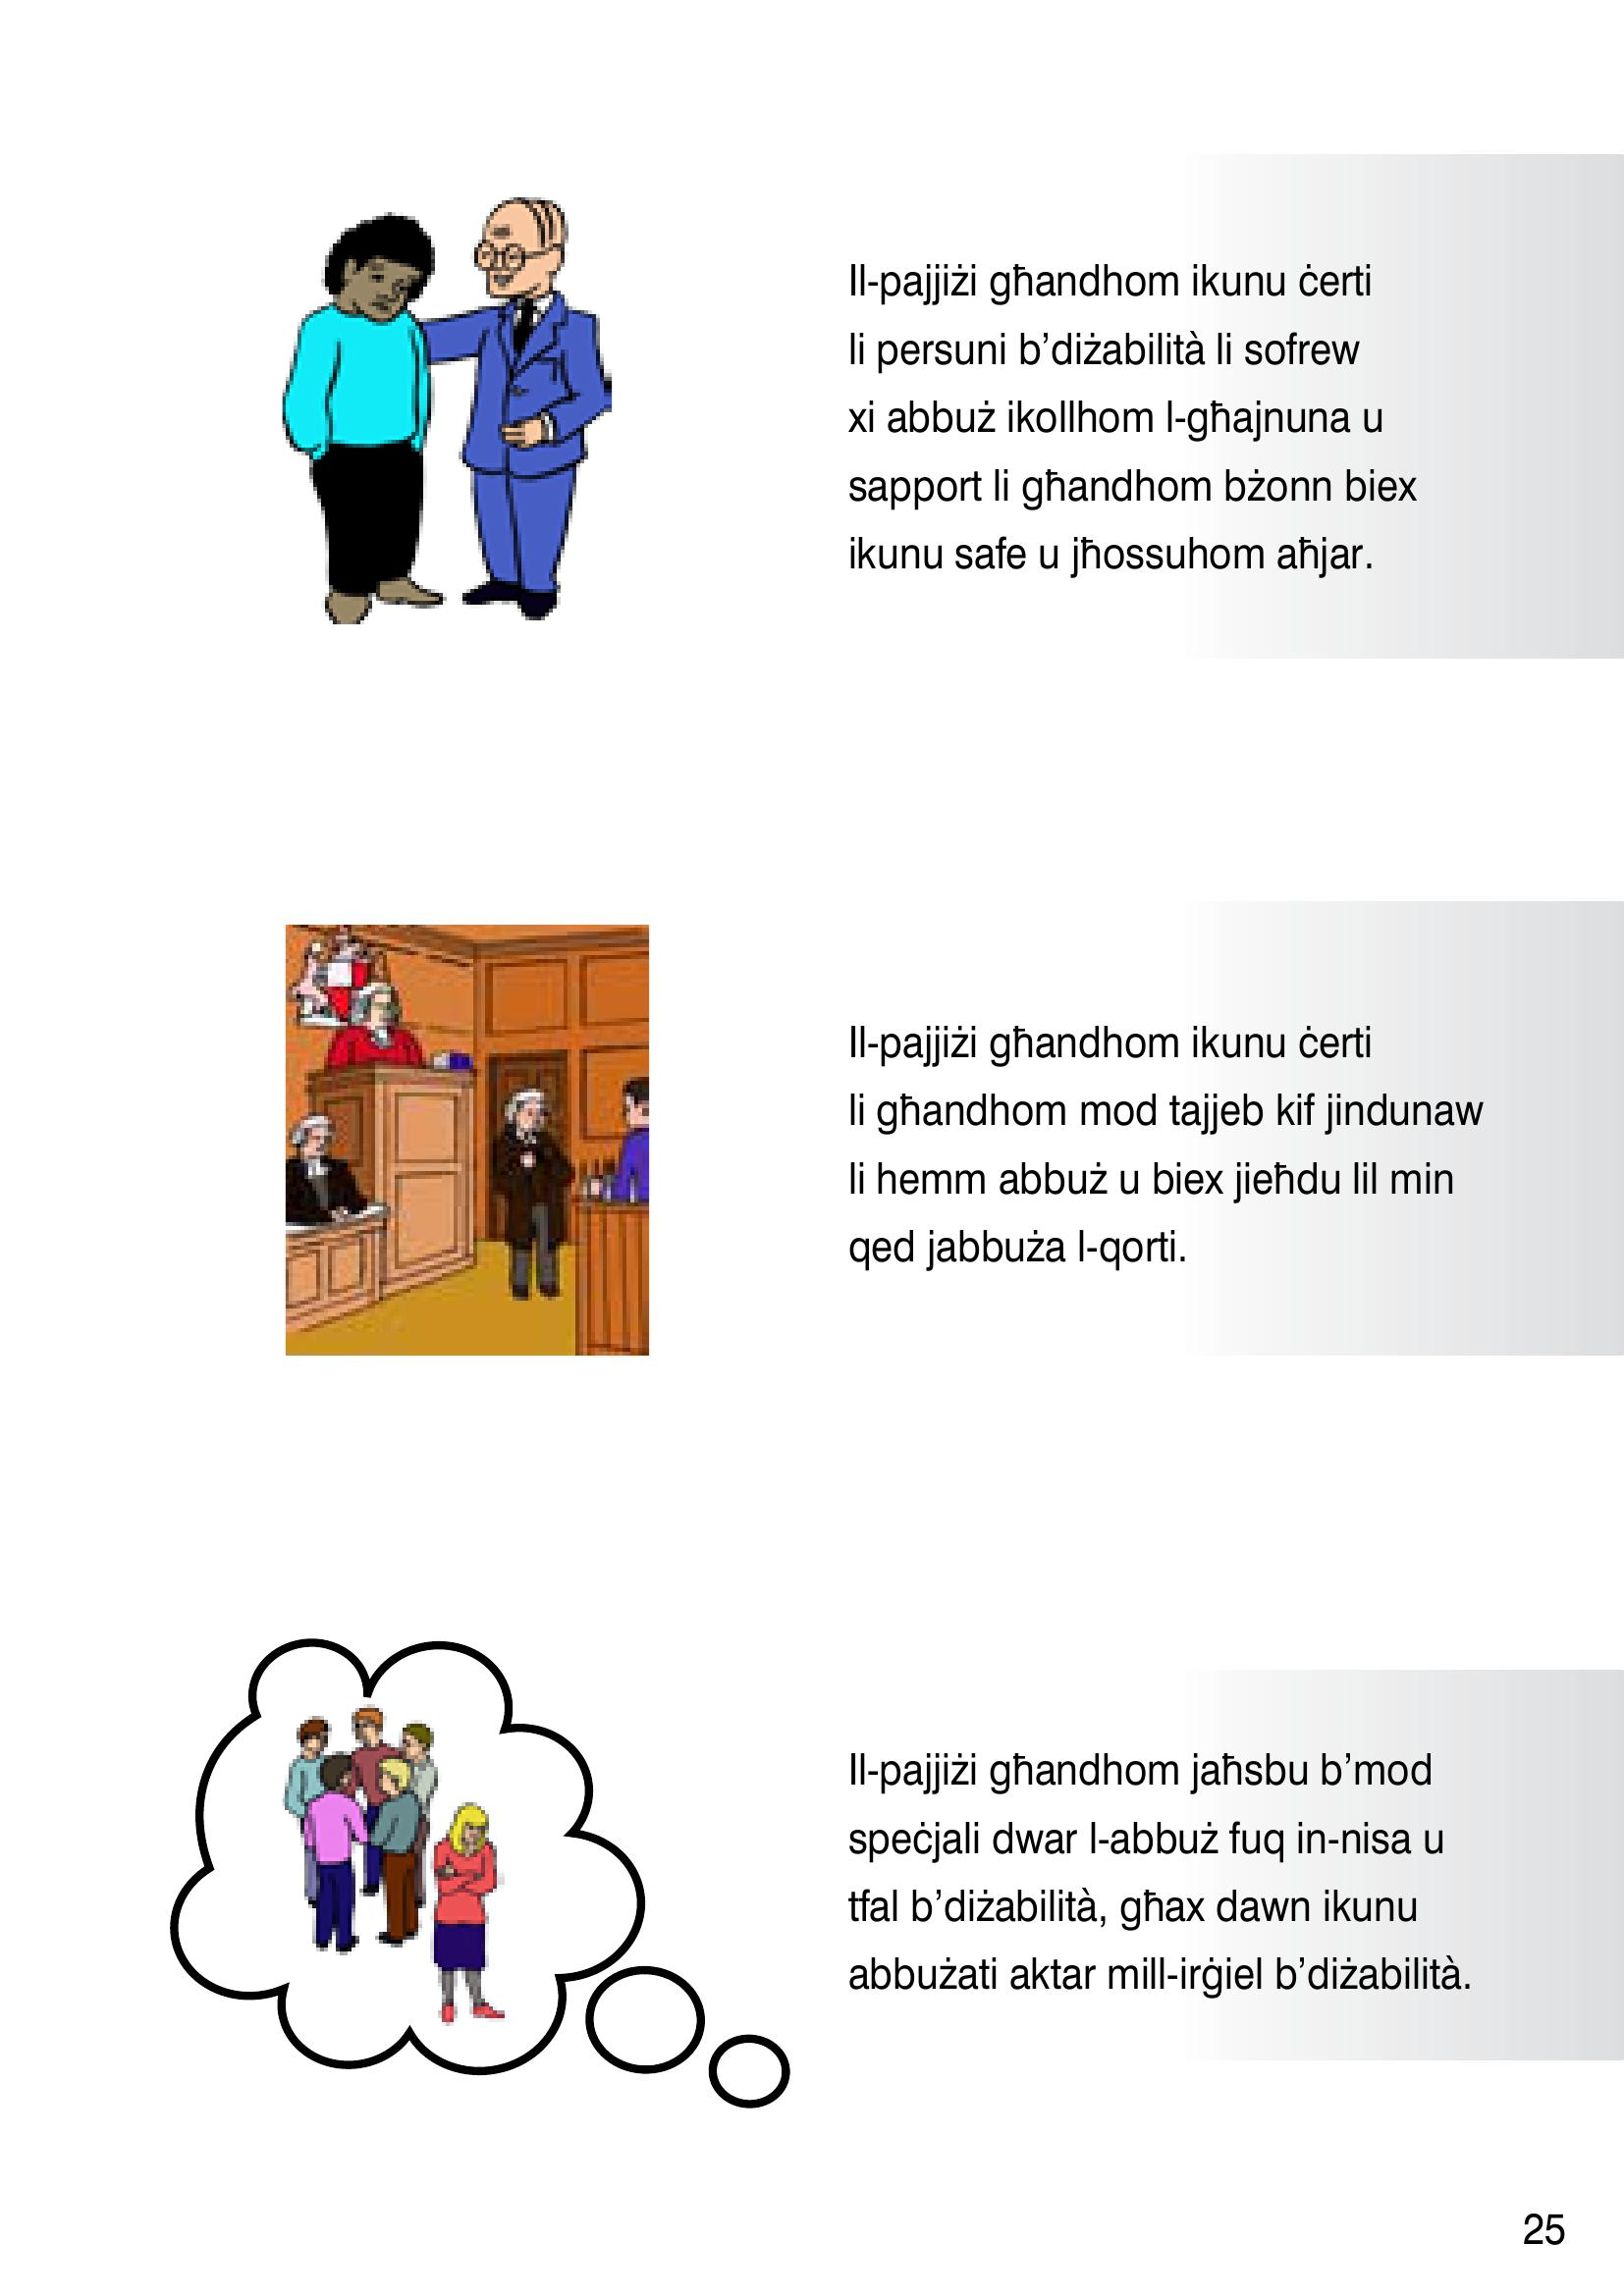text: (803, 202, 1513, 2048)
